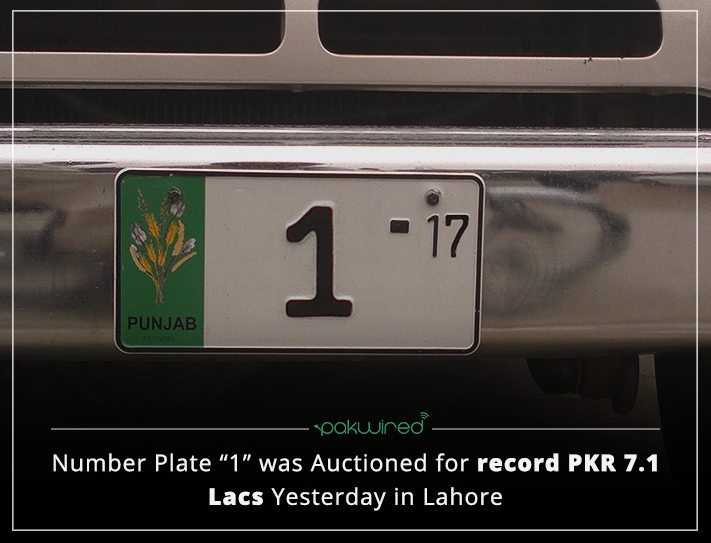plate: (110, 163, 483, 358)
